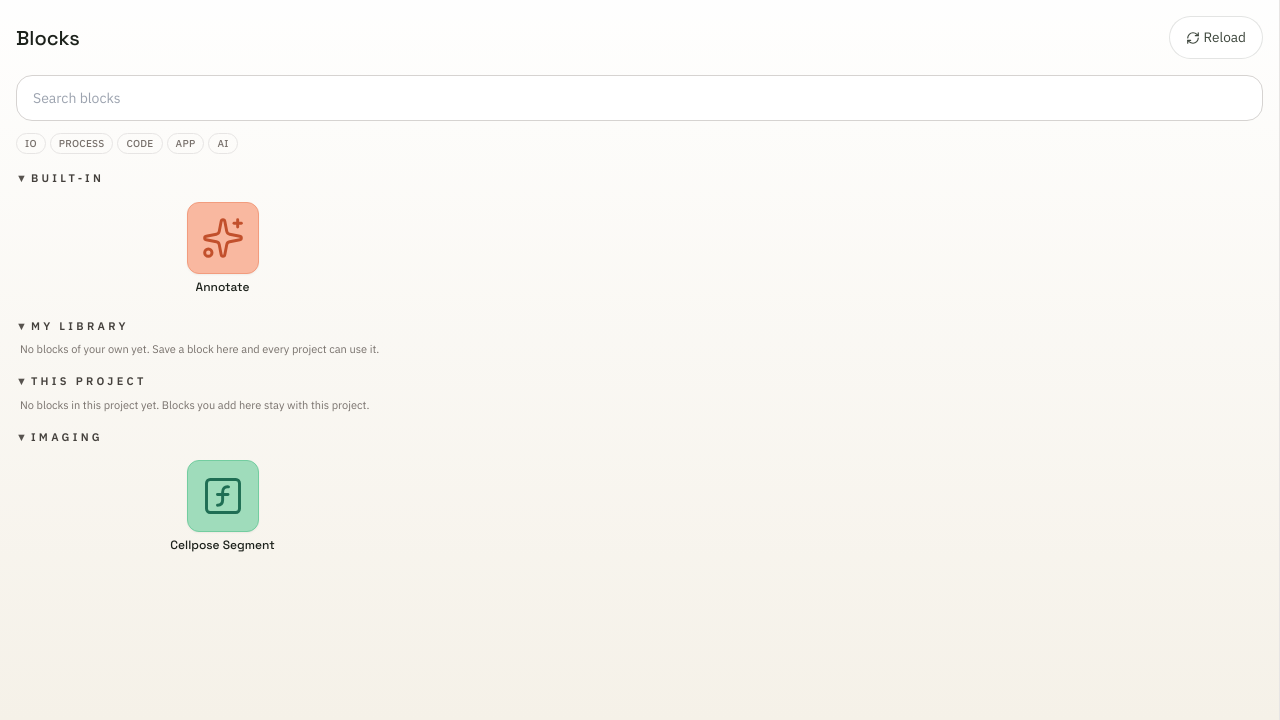
Test: BlockPalette — grid redesign (#1797) › activating a category chip filters the visible tiles
Check: the text "Cellpose Segment" is shown, box [170, 538, 275, 553]
Check: the text "Annotate" is shown, box [196, 280, 249, 295]
What coordinates should you click on to do the following:
click the button "AI"
I would click on:
 (223, 144)
Its box is [208, 133, 238, 154].
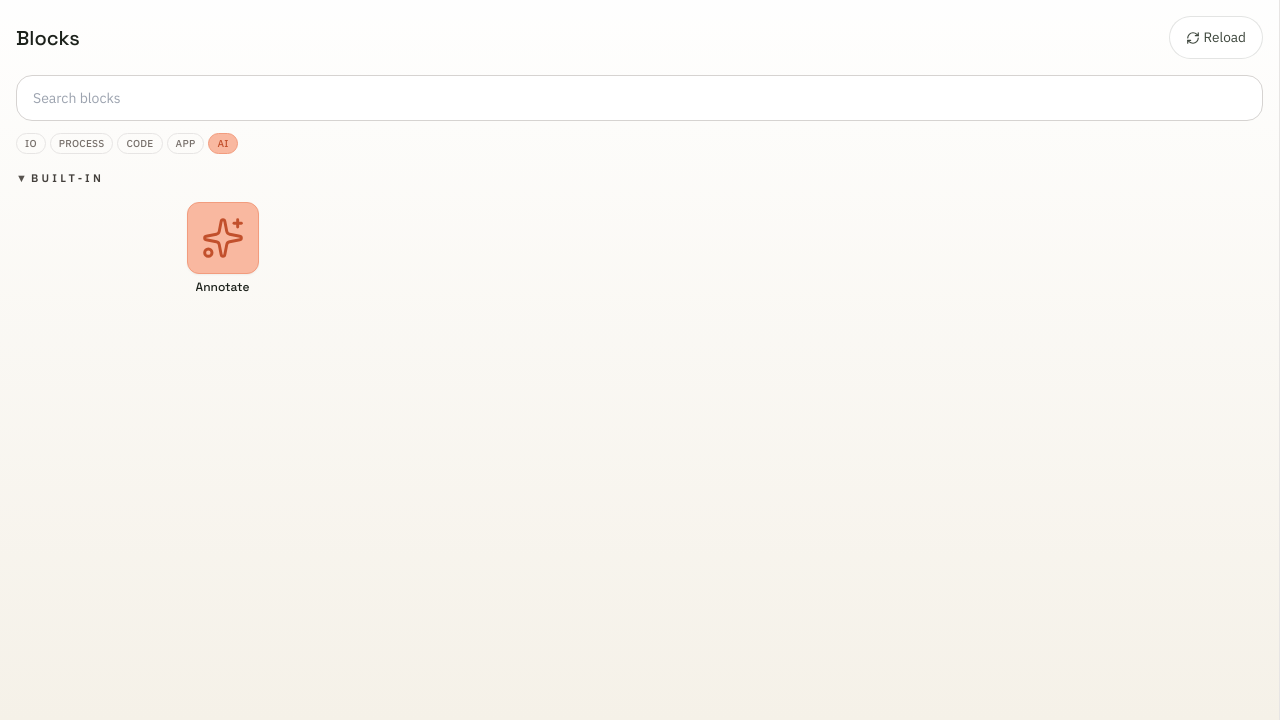
Check: the text "Annotate" is shown, box [196, 280, 249, 295]
Check: the button "Cellpose Segment" is gone
